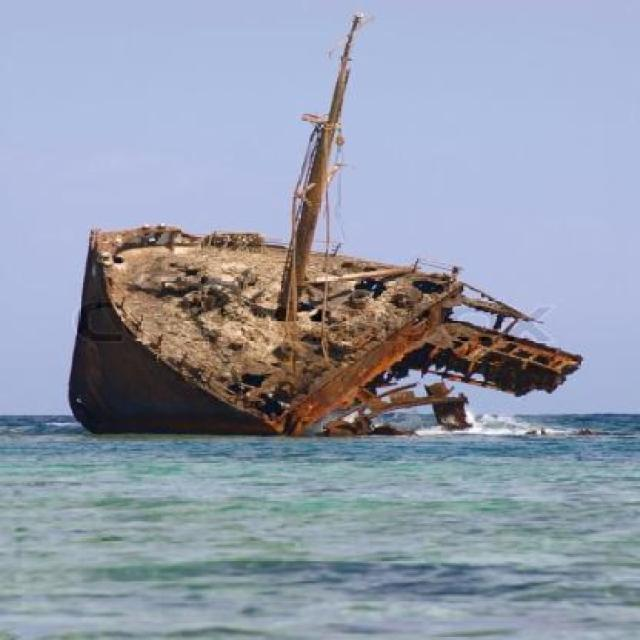corrosion: (66, 228, 582, 442)
